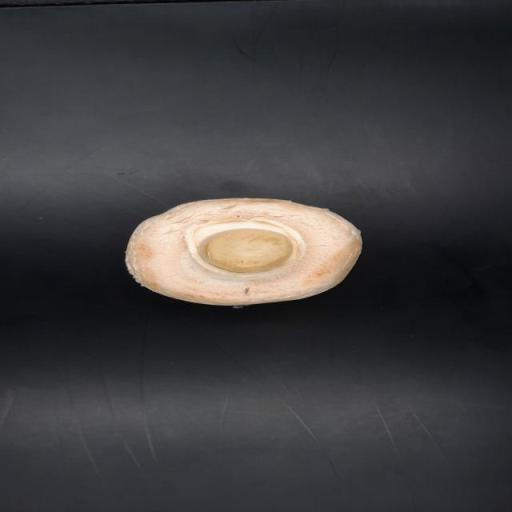Button Mushroom: (125, 196, 364, 308)
